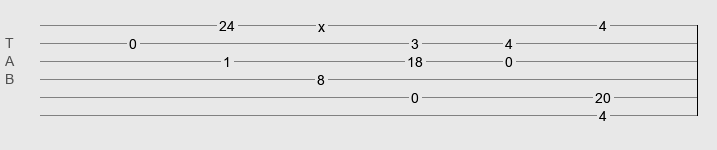0: (129, 36, 137, 46), (411, 90, 419, 100), (505, 54, 513, 64)
1: (223, 54, 231, 64)
18: (407, 54, 423, 64)
20: (595, 90, 611, 100)
24: (219, 18, 235, 28)
3: (411, 36, 419, 46)
4: (505, 36, 513, 46), (599, 18, 607, 28), (599, 108, 607, 118)
8: (317, 72, 325, 82)
x: (318, 19, 325, 27)
